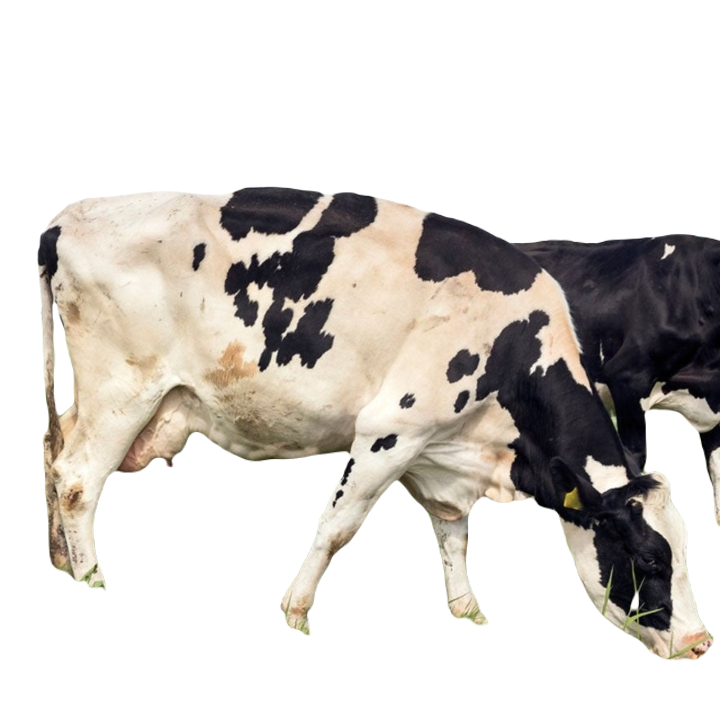Cow: (33, 186, 717, 659)
